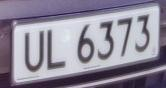3: (96, 16, 118, 66), (133, 12, 153, 57)
6: (74, 19, 99, 68)
7: (115, 13, 136, 61)
L: (44, 26, 71, 74)
U: (21, 26, 46, 78)
